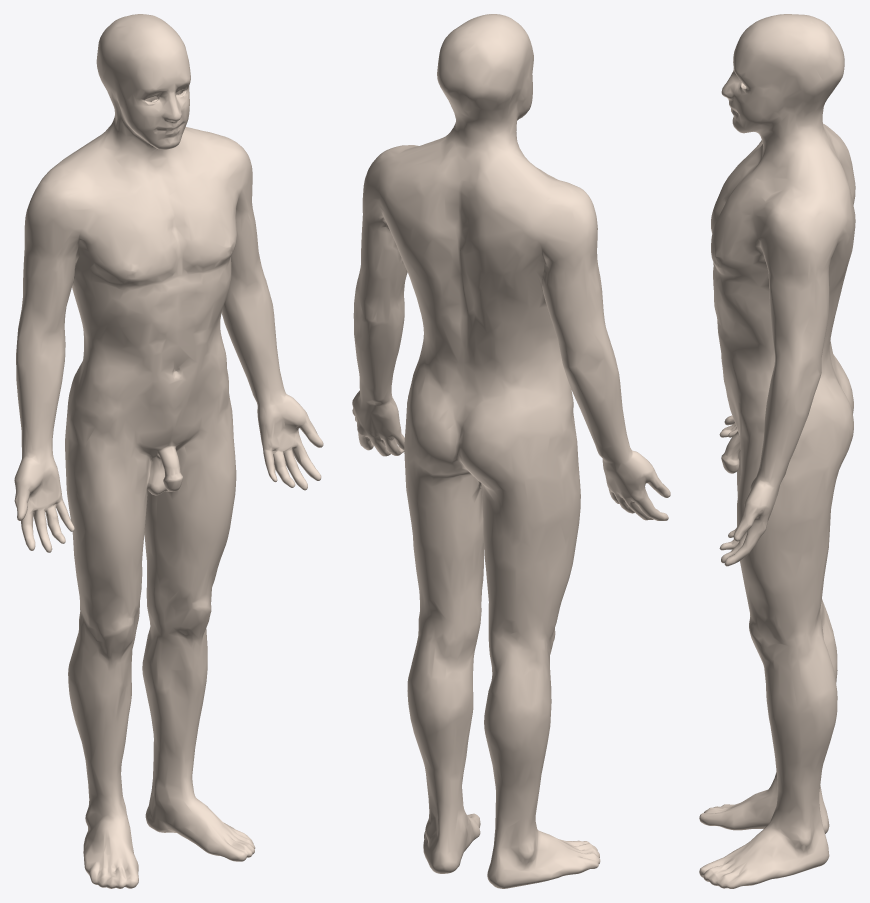
The model's file is human-body-surface.glb.
The picture shows the model from 3 angles, left to right: view 1: azimuth 30°, elevation 25°; view 2: azimuth 150°, elevation 25°; view 3: azimuth 270°, elevation 25°; orthographic projection. The views are drawn at different scales.
Visible parts, largest first — view 1: body-surface; view 2: body-surface; view 3: body-surface.
Part boxes in pixels (<box>): body-surface: <box>14,14,323,888</box>; body-surface: <box>352,14,670,888</box>; body-surface: <box>699,14,855,888</box>.
Size of the model in its own units: 0.6668 by 1.72 by 0.292.
